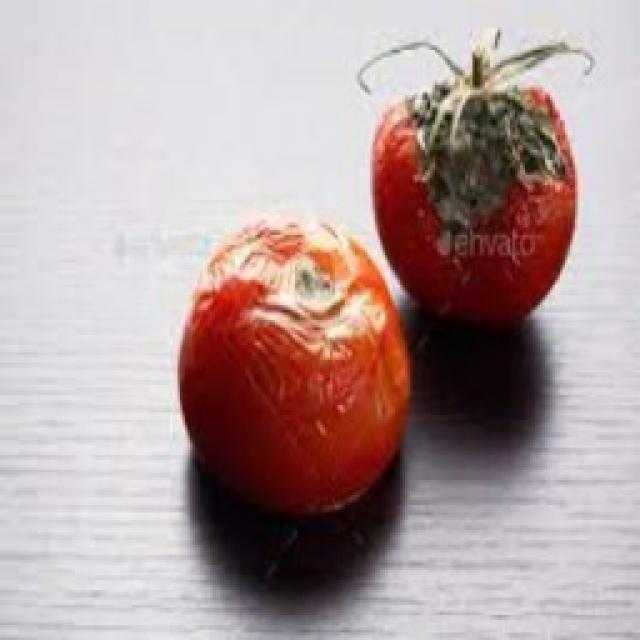overripe tomato: (168, 203, 412, 510), (358, 31, 604, 322)
